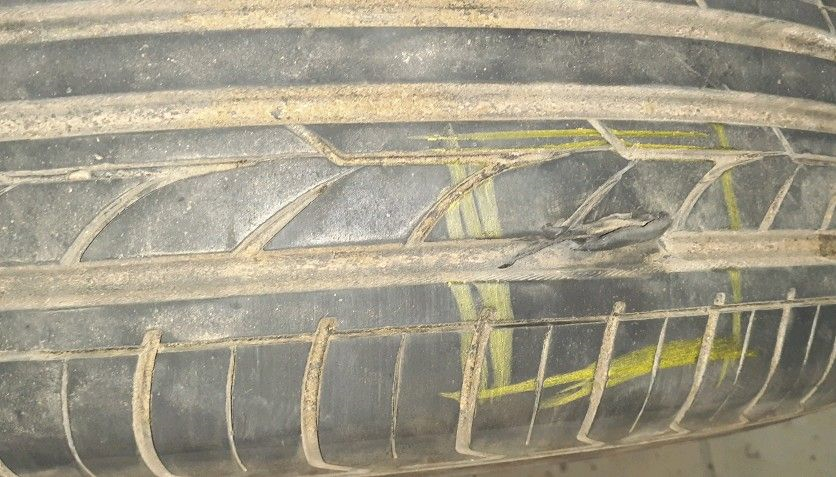tr: (490, 215, 666, 274)
